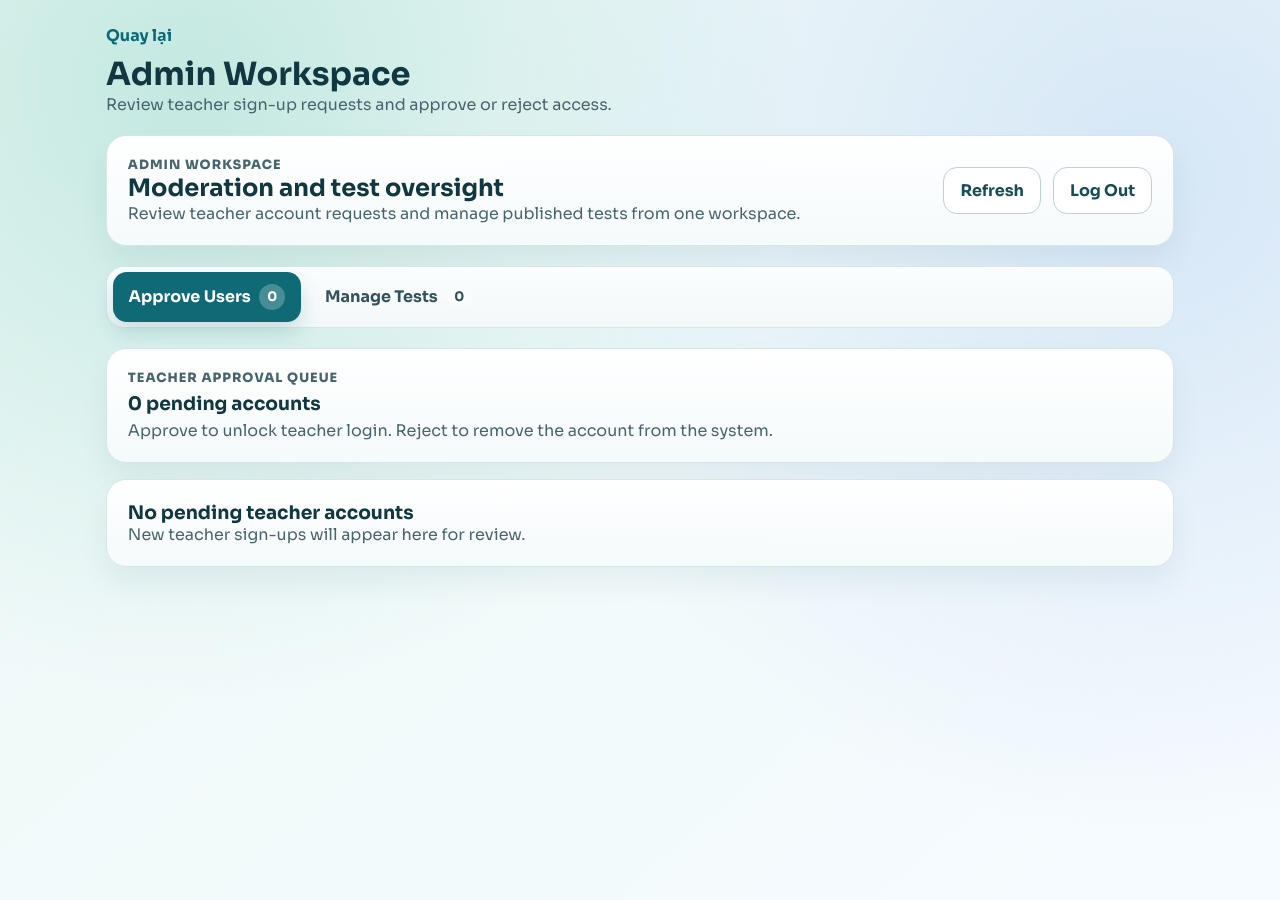
Scenario: AdminPageComponent › switches to the tests tab
Click the tab with id "tests-tab" at (399, 297), box [309,272,488,322]
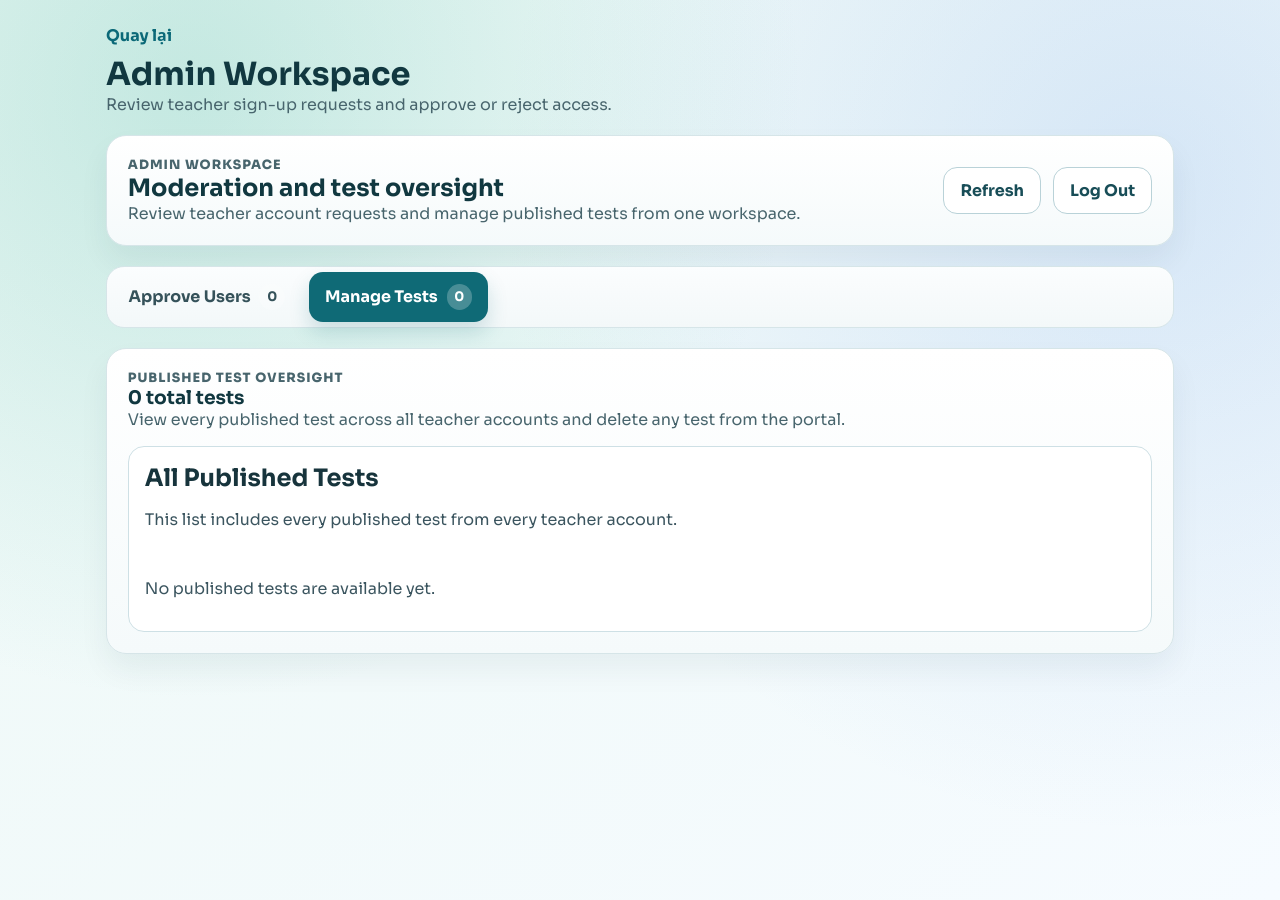
Check: the panel with id "approvals-panel" is gone
Check: the panel with id "tests-panel" is shown, box [106,348,1174,654]
Check: the text "Published Test Oversight" is shown, box [128,370,344,386]
